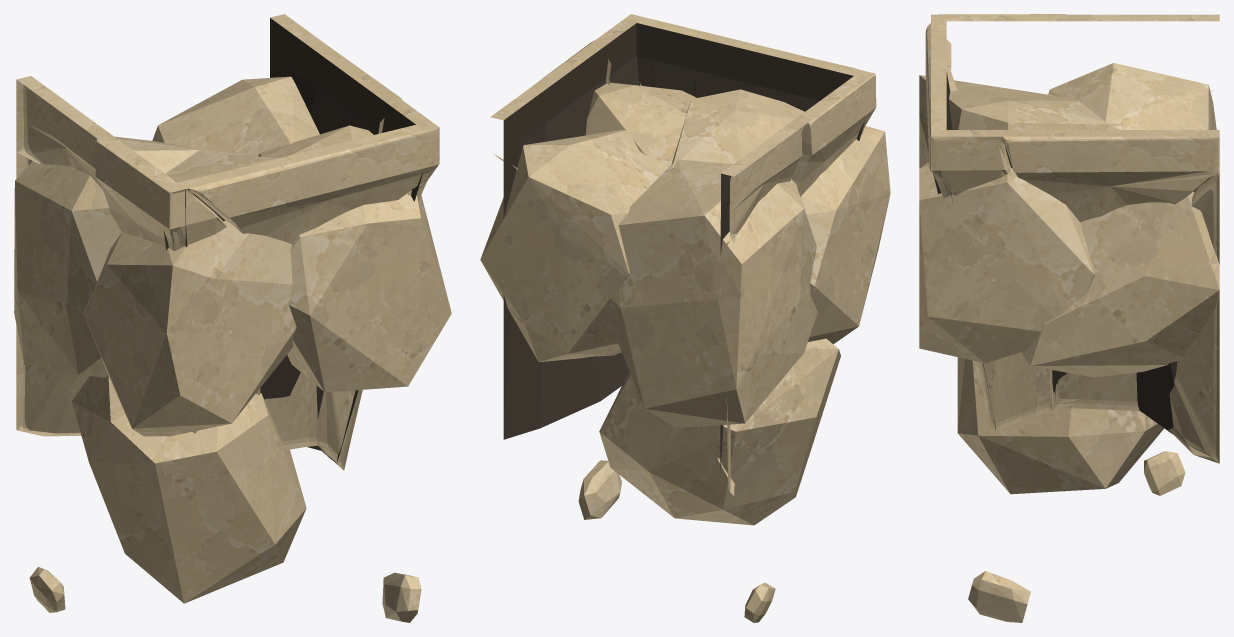
Rendered from ground_bottom_end_05.glb.
3 renders of one model, left to right at view 1: azimuth 30°, elevation 25°; view 2: azimuth 150°, elevation 25°; view 3: azimuth 270°, elevation 25°, orthographic. The views are drawn at different scales.
Parts seen in each view (by area): view 1: GroundBottomEnd05_Body; view 2: GroundBottomEnd05_Body; view 3: GroundBottomEnd05_Body.
Part boxes in pixels (box(x1,y1,x2,y2)): GroundBottomEnd05_Body: box(14, 14, 451, 622); GroundBottomEnd05_Body: box(480, 14, 890, 622); GroundBottomEnd05_Body: box(919, 14, 1219, 622).
Bounding box in the file's own units: 1.08 × 1.86 × 1.04.
12 materials, 11 textured.
